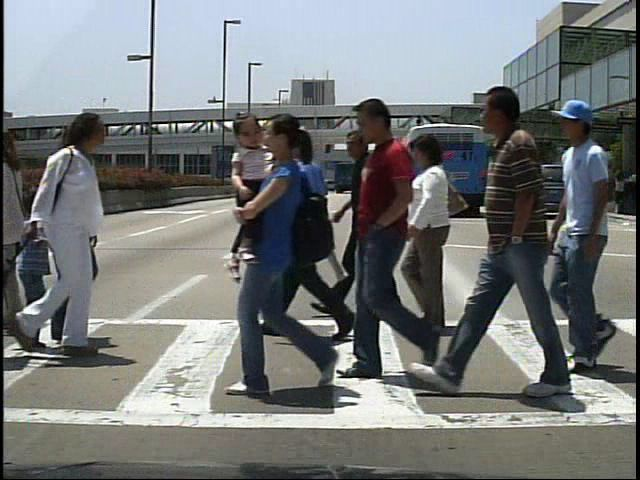person: (467, 84, 574, 415), (15, 113, 124, 362), (353, 96, 445, 377), (257, 121, 358, 347), (549, 101, 624, 376), (333, 130, 405, 322), (44, 112, 98, 360), (418, 137, 482, 339), (10, 197, 51, 345), (582, 168, 602, 218), (507, 166, 526, 215), (504, 165, 505, 215)
